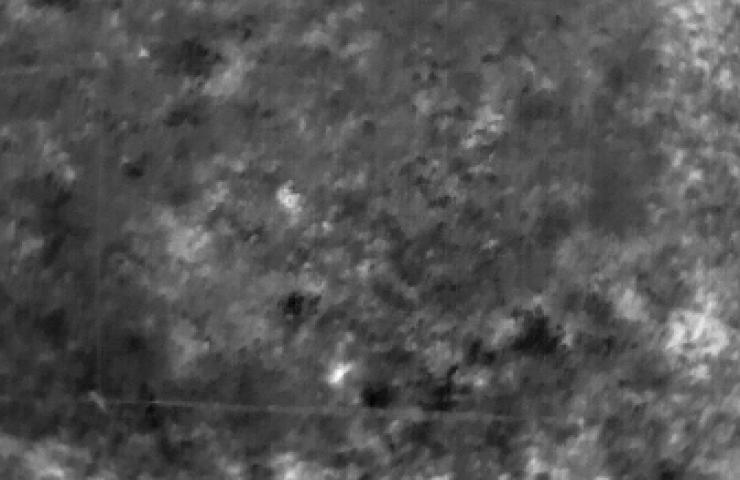landmines: (276, 179, 306, 212)
